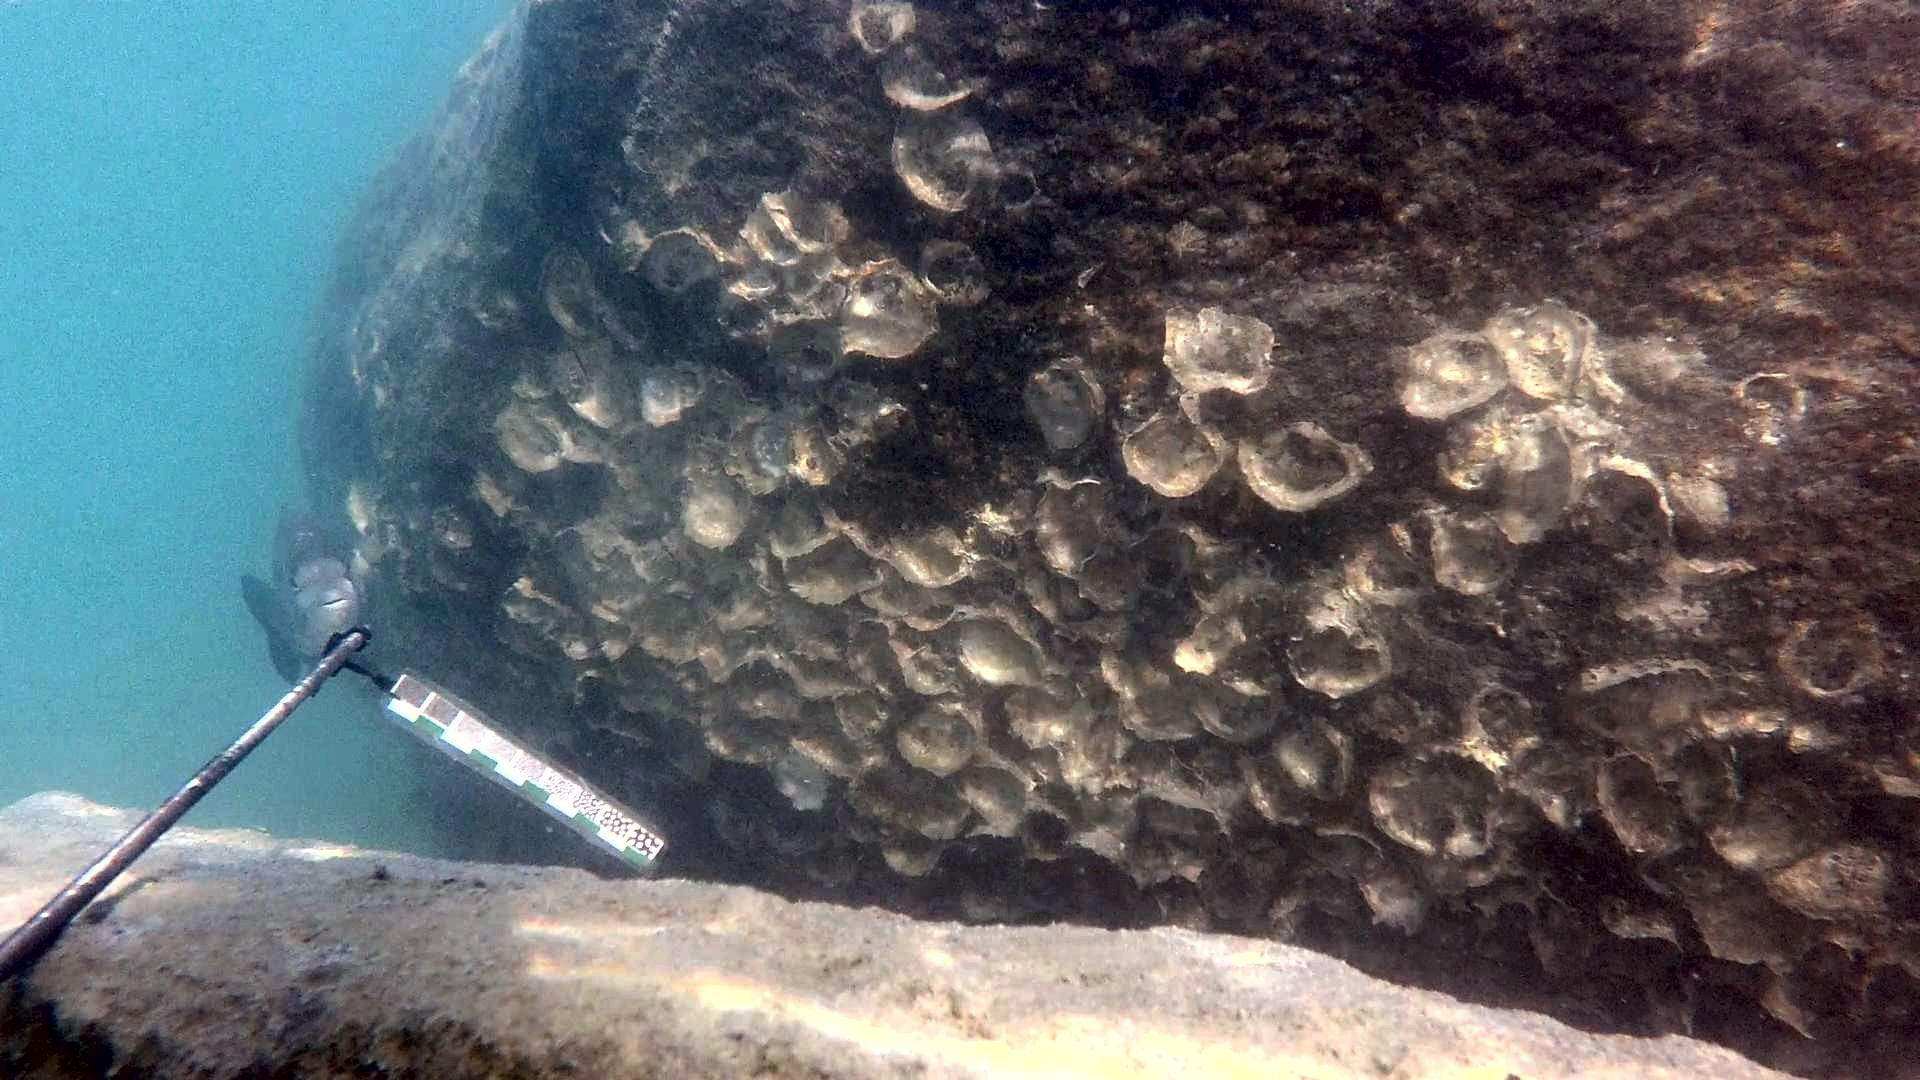acanthopagrus palmaris: (231, 476, 381, 688)
